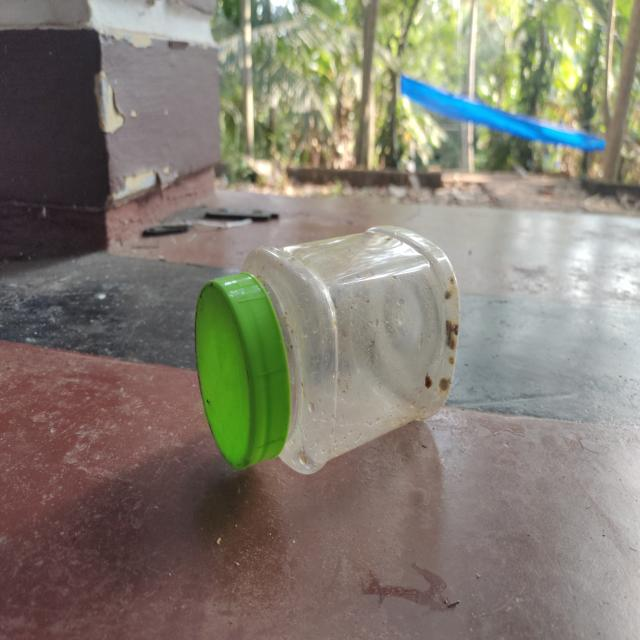plastic: (194, 222, 460, 474)
